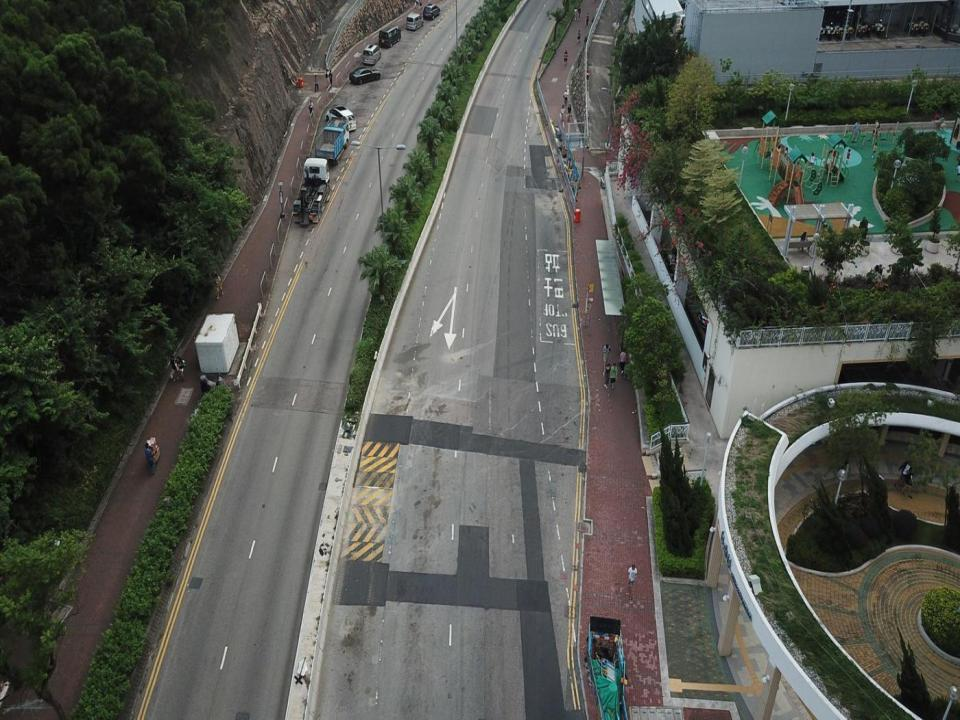car: (698, 290, 763, 329), (349, 67, 381, 84), (423, 3, 440, 20)
truck: (292, 158, 330, 224), (314, 116, 349, 165)
van: (326, 105, 357, 132), (379, 23, 401, 48), (362, 43, 381, 64), (406, 13, 424, 31)
